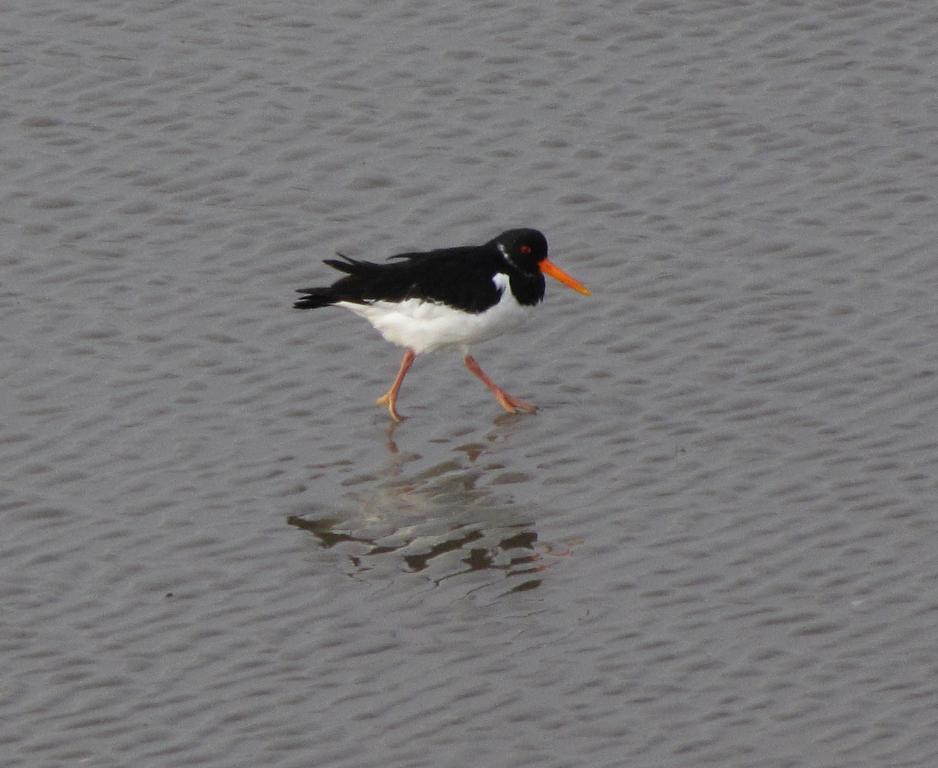Bird: (294, 227, 592, 423)
